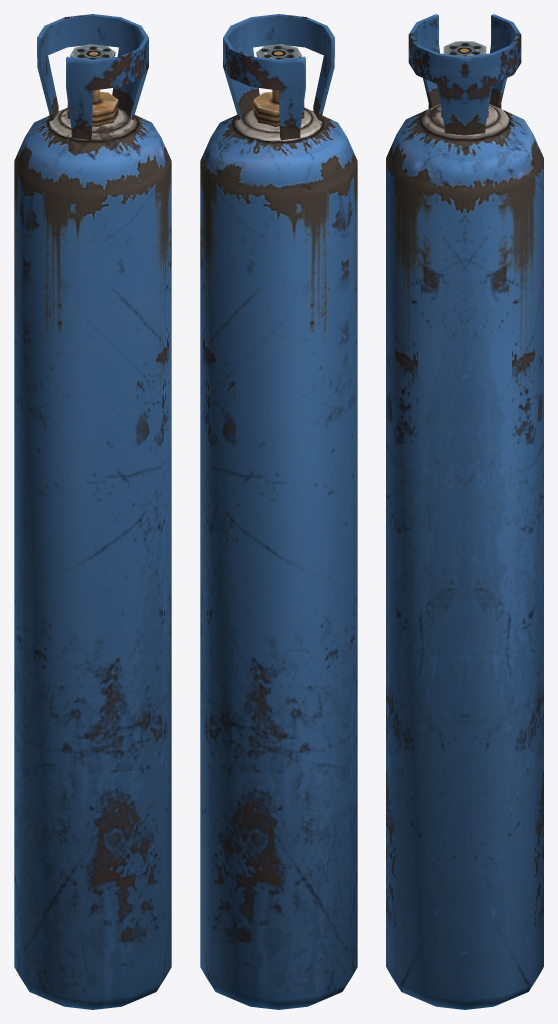
Rendered from gasCylinder02.fbx.
The picture shows the model from 3 angles, left to right: view 1: azimuth 30°, elevation 25°; view 2: azimuth 150°, elevation 25°; view 3: azimuth 270°, elevation 25°; orthographic projection.
Visible parts, largest first — view 1: gasCylinder02; view 2: gasCylinder02; view 3: gasCylinder02.
Boxes of the visible parts, x1=… form: gasCylinder02: x1=14, y1=14, x2=171, y2=1009; gasCylinder02: x1=200, y1=14, x2=357, y2=1009; gasCylinder02: x1=386, y1=14, x2=543, y2=1009.
Bounding box in the file's own units: 22.97 × 153 × 22.97.
